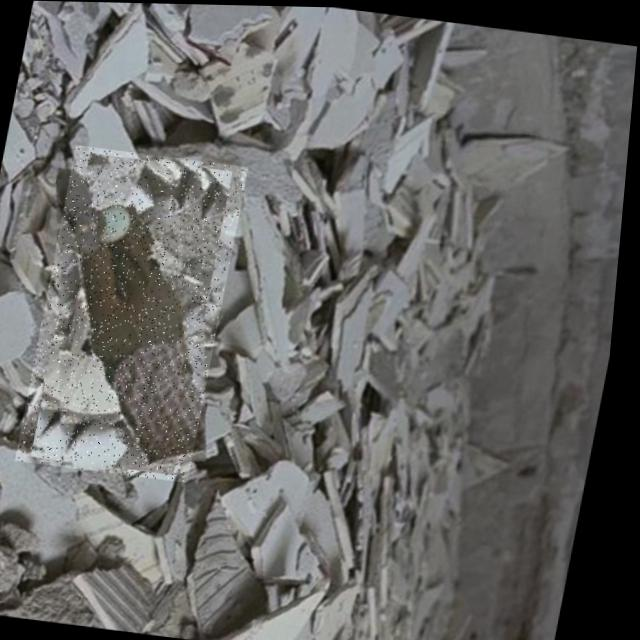Person in Rubble: (21, 143, 251, 482)
